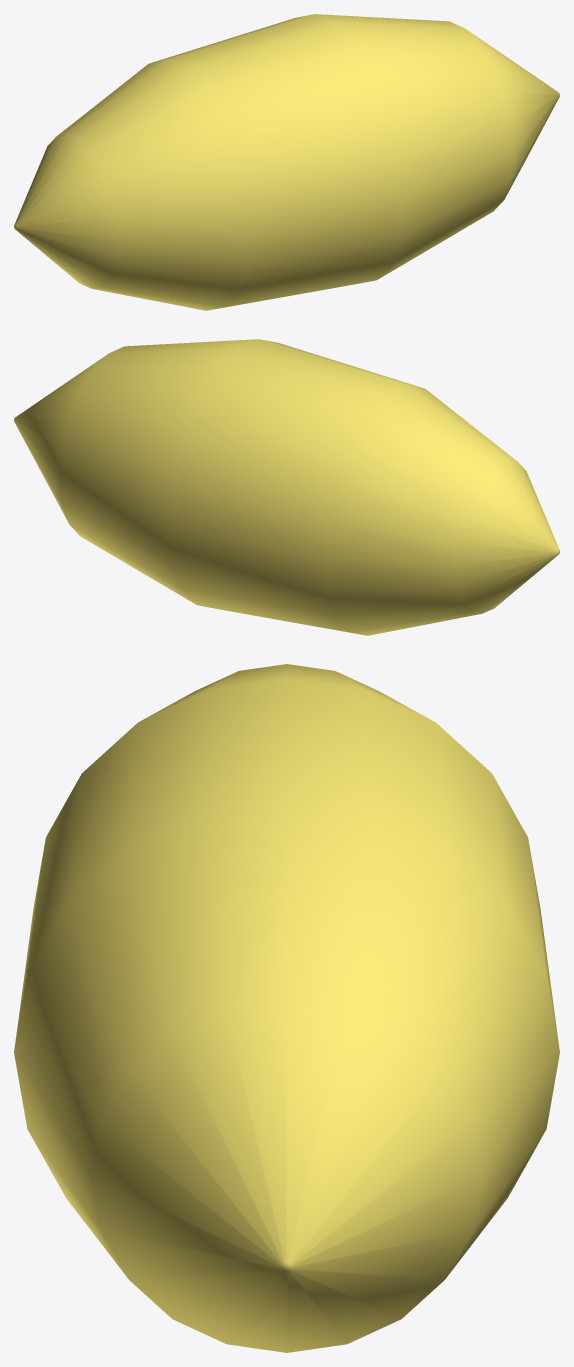
File: lemon.glb
The picture shows the model from 3 angles, top to bottom: view 1: azimuth 30°, elevation 25°; view 2: azimuth 150°, elevation 25°; view 3: azimuth 270°, elevation 25°; orthographic projection. The views are drawn at different scales.
Visible parts, largest first — view 1: lemon; view 2: lemon; view 3: lemon.
Boxes of the visible parts, x1,y1,x2,y2 form: lemon: (14, 14, 559, 310); lemon: (14, 339, 559, 635); lemon: (14, 664, 559, 1352).
Bounding box in the file's own units: 1.27 × 0.56 × 0.56.
